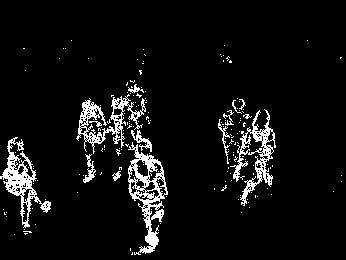person: (127, 137, 170, 258), (2, 136, 54, 234), (233, 106, 277, 203), (106, 93, 140, 182), (219, 96, 254, 181), (74, 97, 106, 184), (122, 78, 151, 124)
